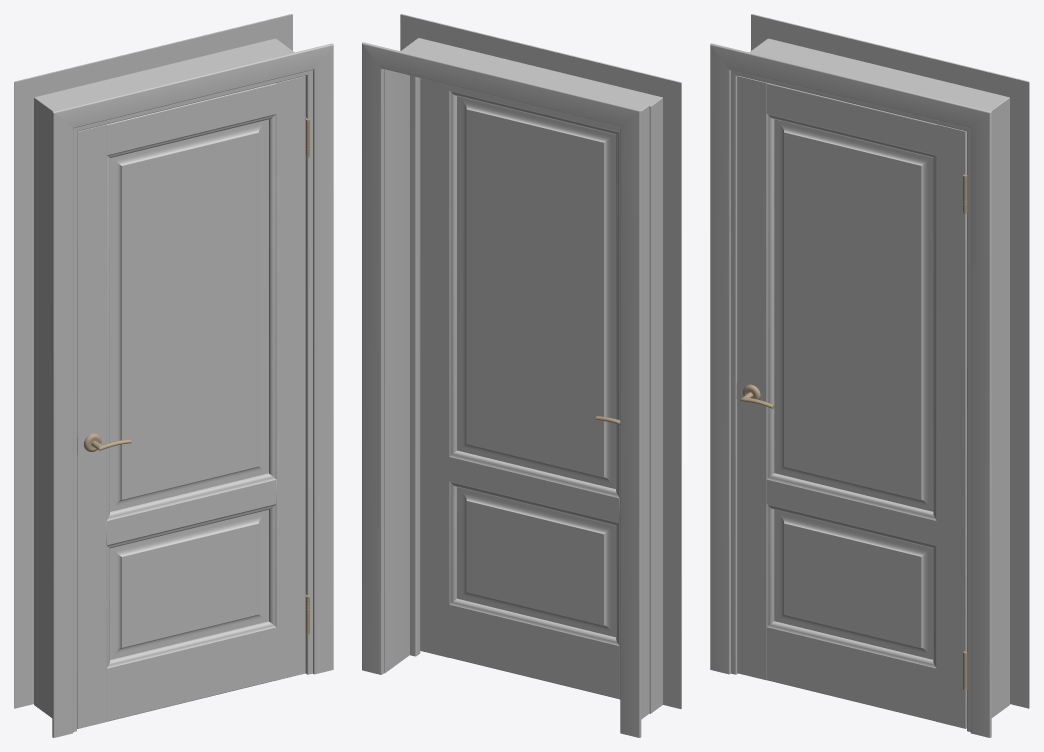
3 views of the same model, side by side, from view 1: azimuth 30°, elevation 25°; view 2: azimuth 150°, elevation 25°; view 3: azimuth 330°, elevation 25° (orthographic).
Visible parts, largest first — view 1: PianoDoorLeaf, LiraDoorTrim; view 2: PianoDoorLeaf, LiraDoorTrim; view 3: PianoDoorLeaf, LiraDoorTrim.
Boxes of the visible parts, left/top/right/bottom form: PianoDoorLeaf: left=77, top=76, right=305, bottom=728; LiraDoorTrim: left=14, top=14, right=333, bottom=737; PianoDoorLeaf: left=420, top=78, right=620, bottom=699; LiraDoorTrim: left=362, top=14, right=681, bottom=737; PianoDoorLeaf: left=737, top=75, right=966, bottom=728; LiraDoorTrim: left=710, top=14, right=1029, bottom=737.
Bounding box in the file's own units: 0.9617 × 2.05 × 0.2905.
3 materials, 1 textured.
